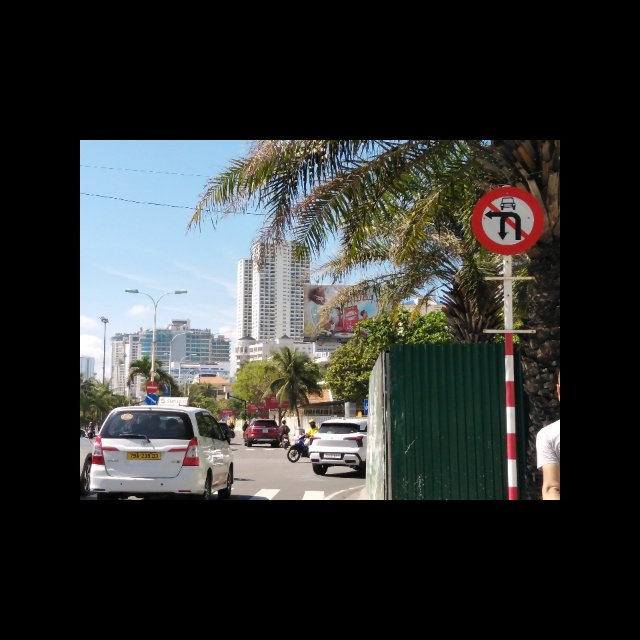Cấm xe ô tô quay đầu và rẽ trái: (471, 187, 545, 256)
